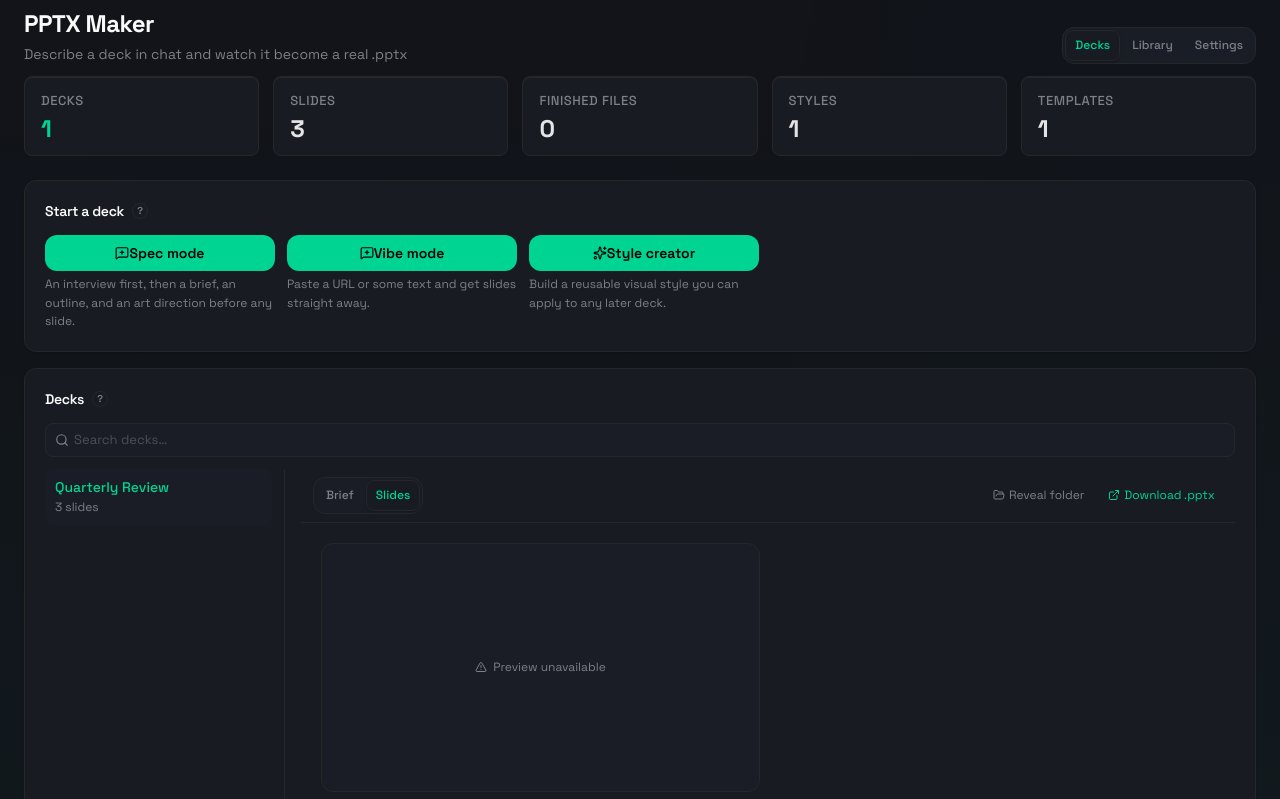
Test: PptxMakerPage › switches to the library view and lists styles
Expected: the element with test id "page-header" is shown, 0,0 -> 1279,76
Click the button "Library". click: (1153, 46)
box: 1122,30 -> 1183,61
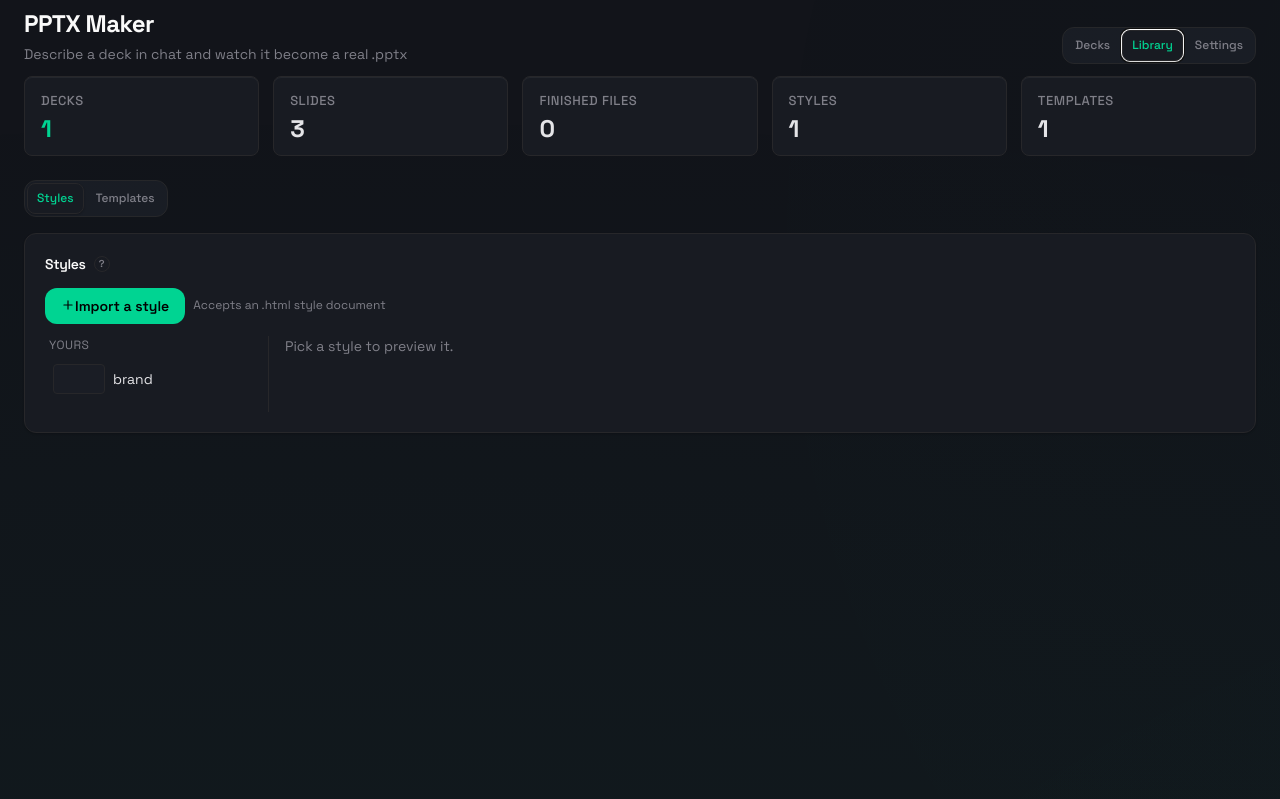
Expected: the text "brand" is shown, 113,370 -> 153,388
